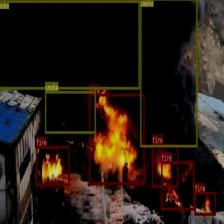fire: (89, 94, 144, 184), (161, 161, 194, 210), (36, 146, 69, 185), (152, 143, 178, 187), (194, 192, 216, 216)
smoke: (0, 0, 139, 88), (140, 0, 197, 147), (44, 91, 96, 133)
